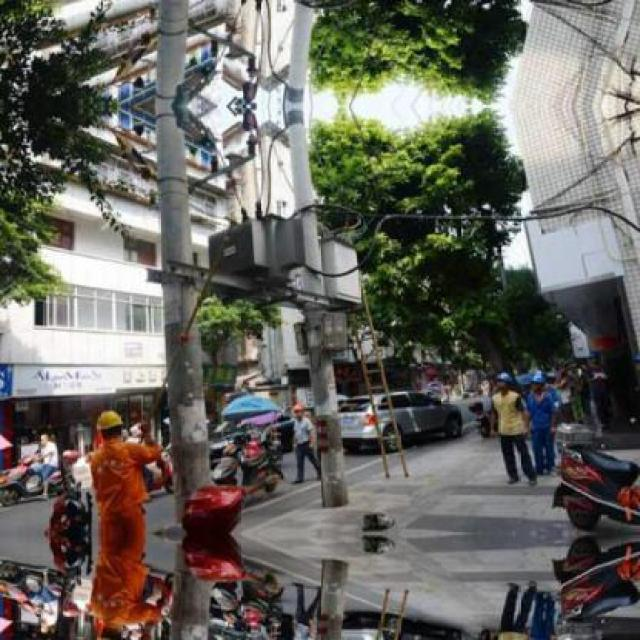helmet: (94, 407, 125, 446), (94, 620, 126, 637), (493, 368, 513, 392), (528, 372, 546, 394)
